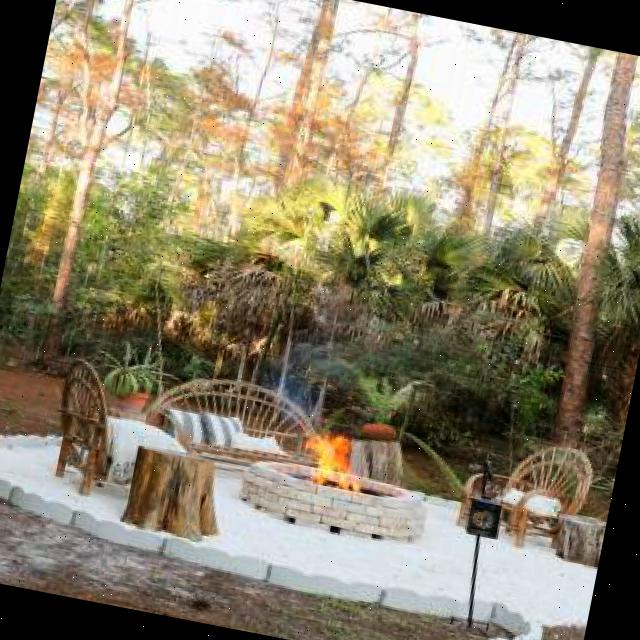fire: (298, 428, 372, 495)
